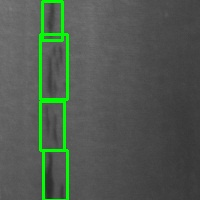inclusion: (40, 34, 67, 99), (43, 150, 67, 200), (40, 101, 64, 150), (42, 1, 62, 40)
